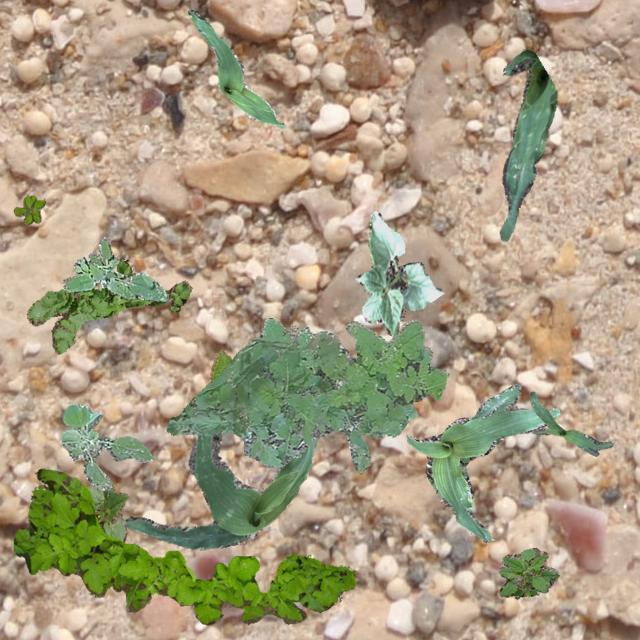crop: (406, 382, 558, 542), (124, 432, 316, 548), (186, 8, 284, 128), (498, 48, 556, 240), (354, 210, 442, 336), (530, 390, 612, 456), (89, 484, 128, 542), (208, 349, 230, 382)
weed: (12, 468, 354, 624), (165, 316, 448, 472), (26, 258, 190, 352), (59, 402, 152, 490), (61, 236, 168, 300), (498, 546, 558, 598), (12, 194, 44, 223)
